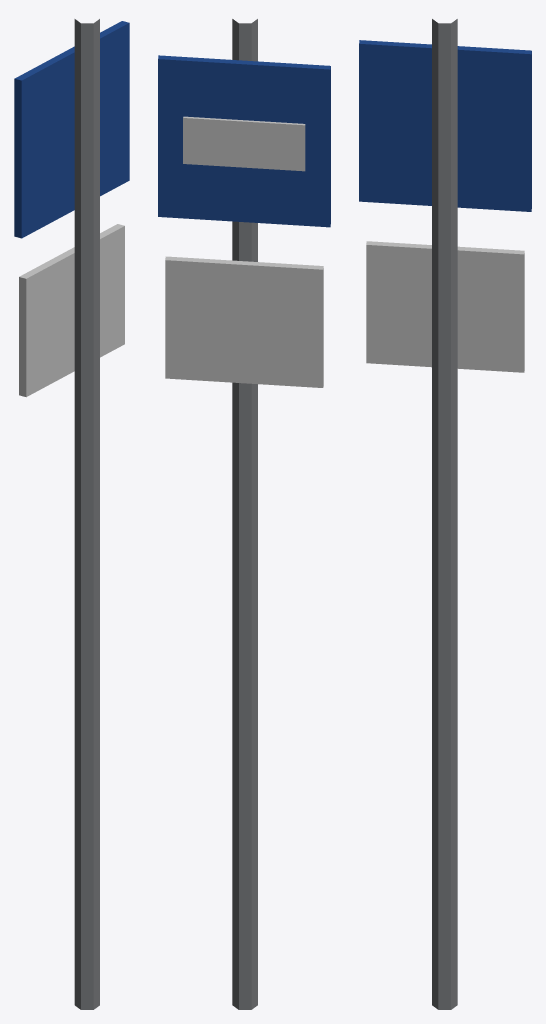
File: zastavky.glb
The picture shows the model from 3 angles, left to right: view 1: azimuth 30°, elevation 25°; view 2: azimuth 150°, elevation 25°; view 3: azimuth 330°, elevation 25°; orthographic projection.
Size of the model in its own units: 0.4568 by 3 by 0.1996.
